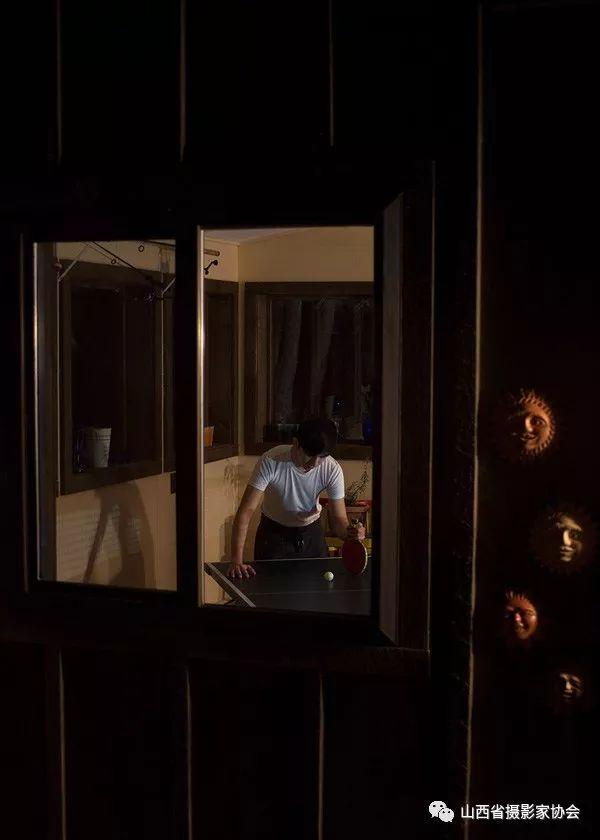face: (296, 444, 321, 469)
specialarea: (310, 452, 315, 460)
